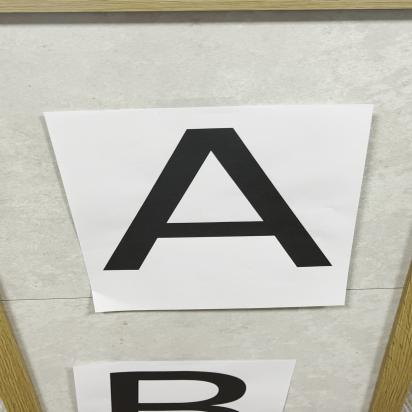seat: (88, 121, 358, 268)
